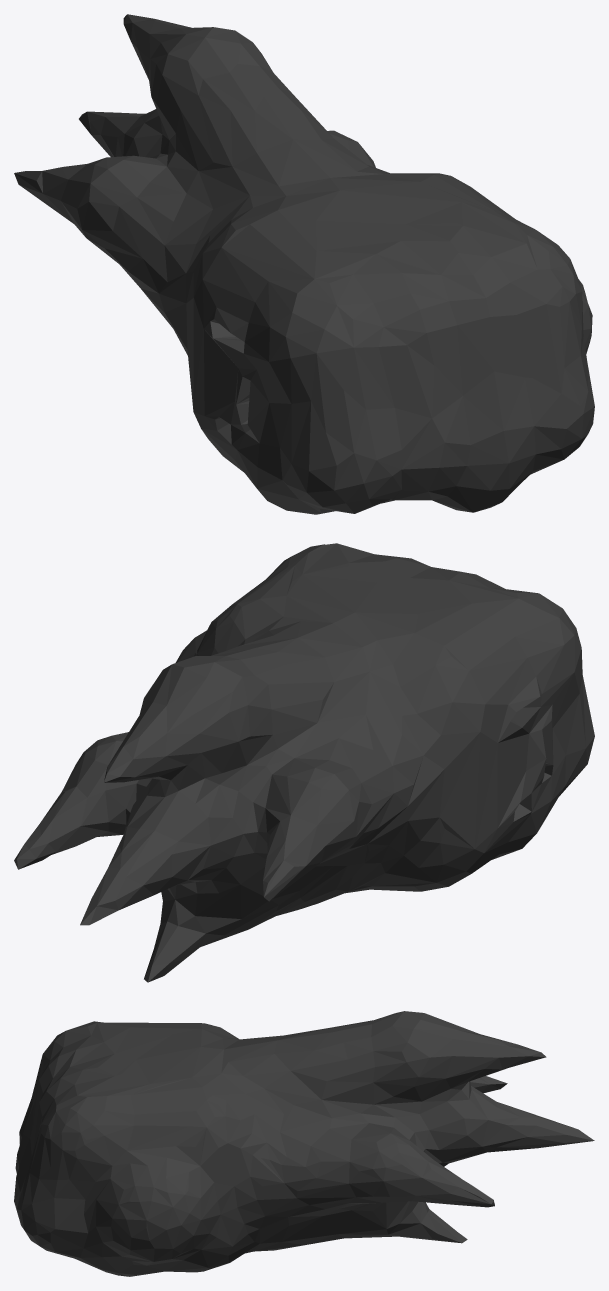
File: fist_shell.glb
3 views of the same model, one above another, from view 1: azimuth 30°, elevation 25°; view 2: azimuth 150°, elevation 25°; view 3: azimuth 270°, elevation 25° (orthographic). The views are drawn at different scales.
Parts seen in each view (by area): view 1: geometry_0; view 2: geometry_0; view 3: geometry_0.
Boxes of the visible parts, x1,y1,x2,y2 form: geometry_0: [14, 14, 594, 514]; geometry_0: [14, 543, 594, 982]; geometry_0: [14, 1011, 594, 1276].
Size of the model in its own units: 1.58 by 1.35 by 3.02.
Materials: 1 (1 with a texture image).
